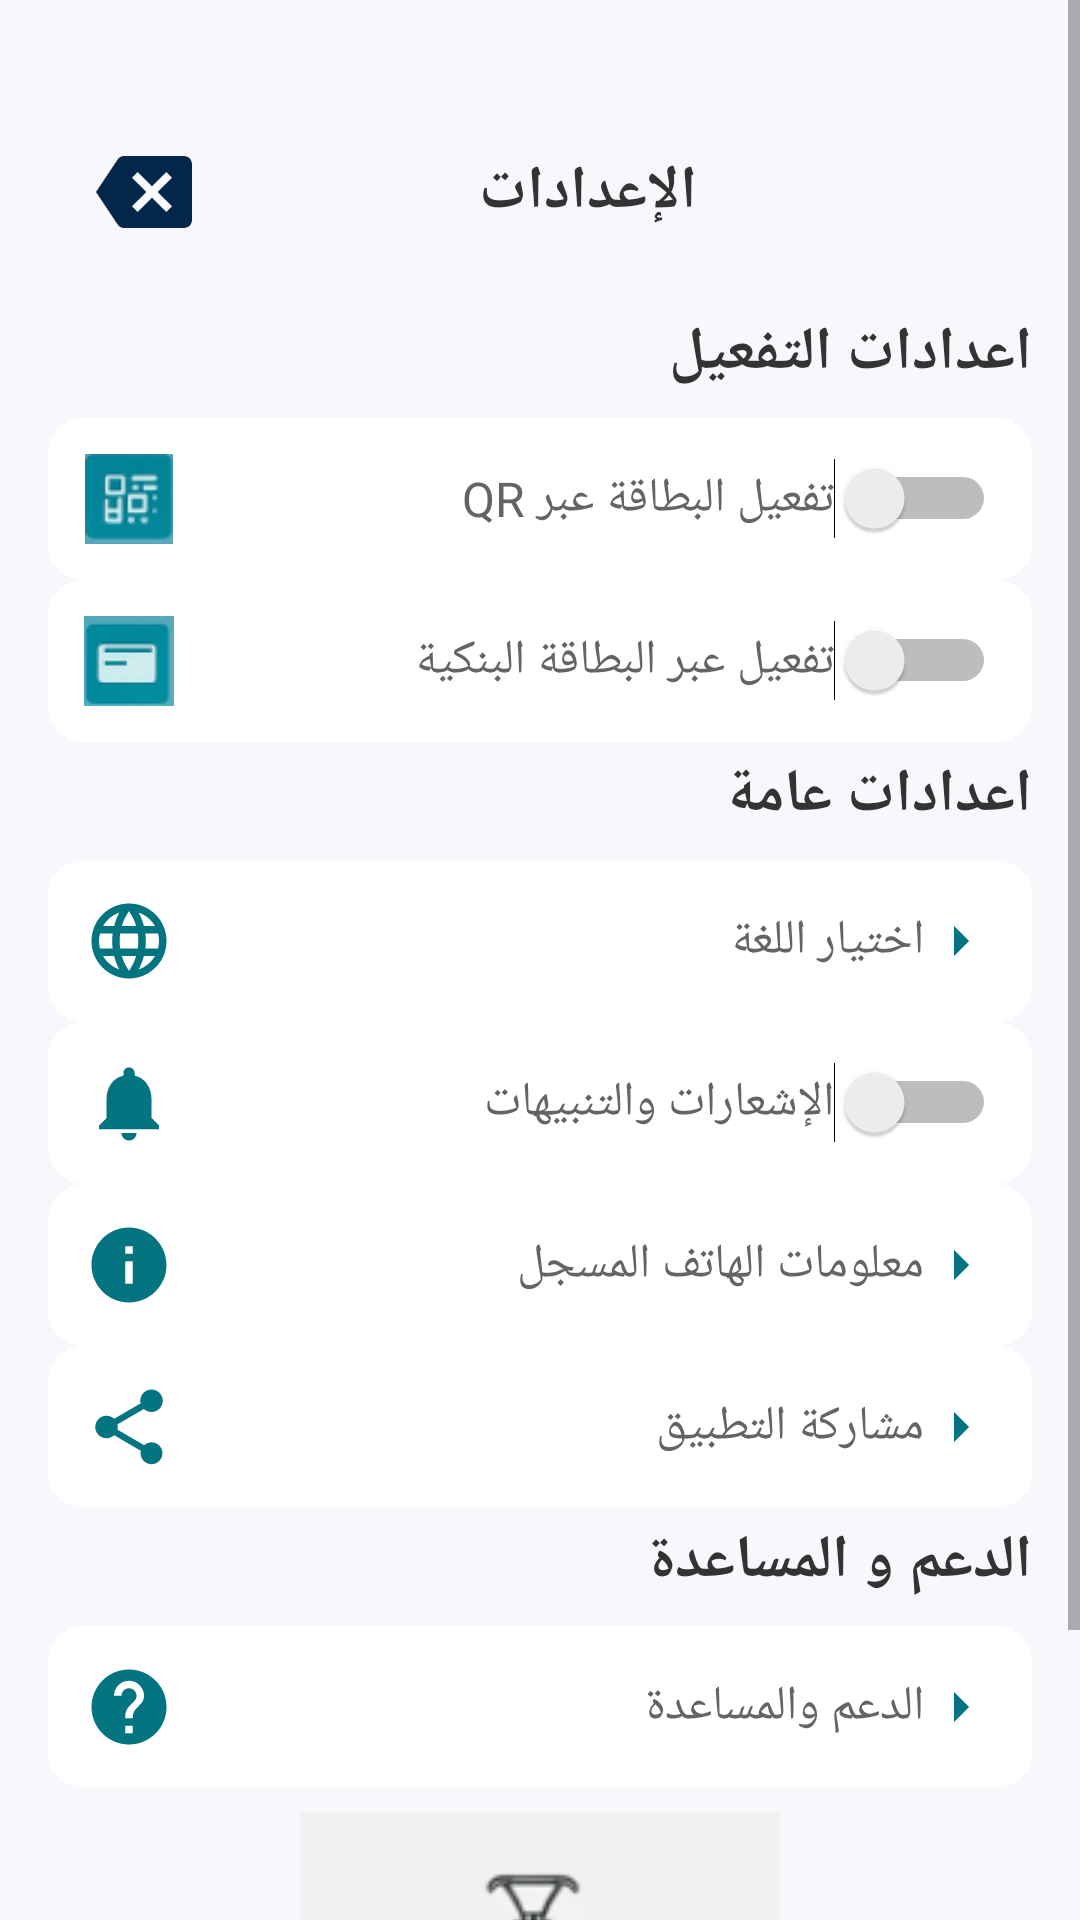

Icon click points for this 1080w x 1920h phone screenshot, format [x,y]:
arrow right: [961,941], [961,1265], [961,1427], [961,1707]
codeqr: [129,499]
help: [129,1707]
info: [129,1265]
language: [129,941]
notifications: [129,1104]
share: [129,1427]
زر الخروج: [144,192]
